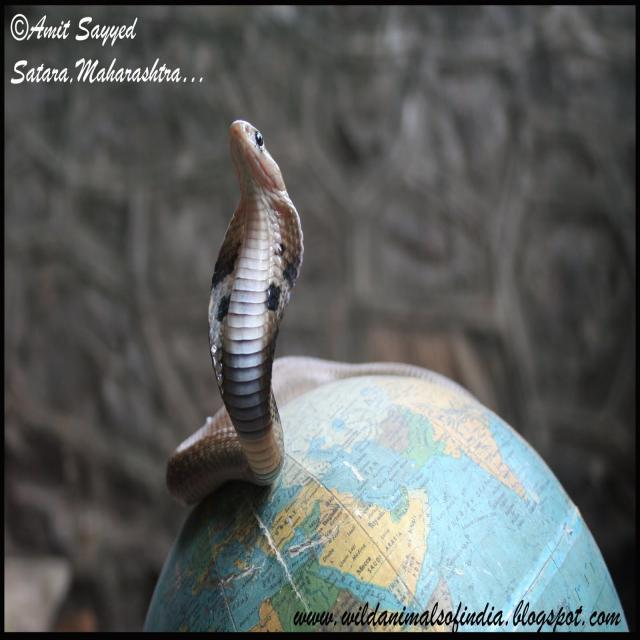Snake: (164, 117, 304, 507)
